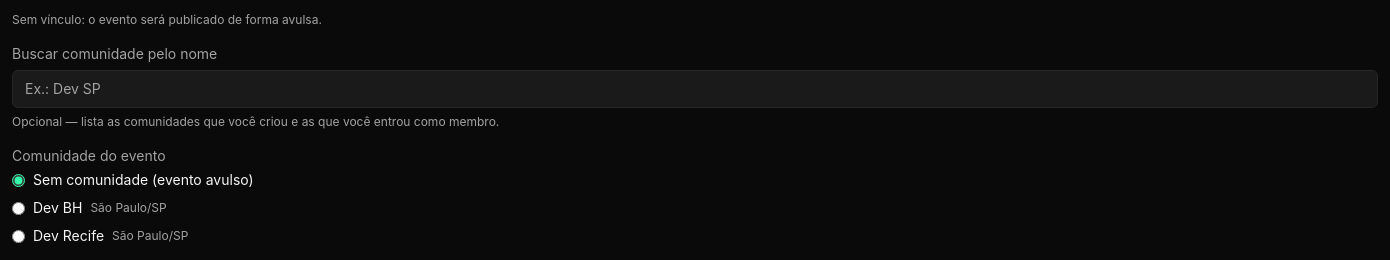
Test case: CommunityPicker › a busca filtra as comunidades de membro no cliente
Expected: the radio button labelled "Dev BH São Paulo/SP" is shown, 12,202 -> 25,214
Type "recife" into the field labelled "Buscar comunidade pelo nome".
click(695, 89); type("recife")  # box 12,70 -> 1378,108
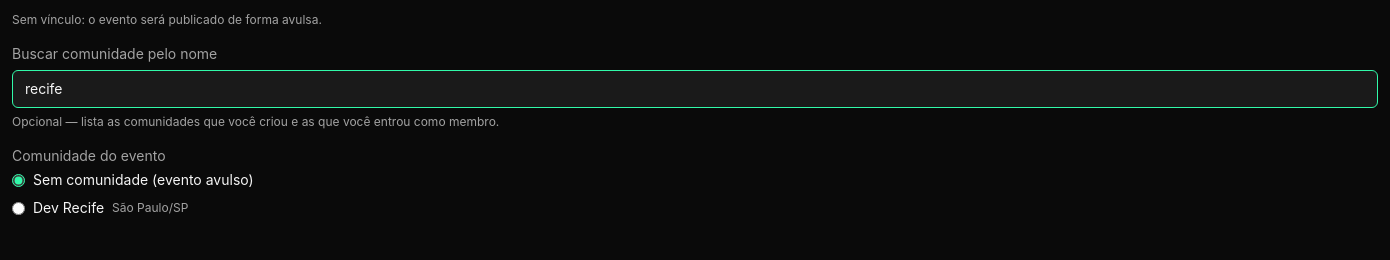
Expected: the radio button labelled "Dev Recife São Paulo/SP" is shown, 12,202 -> 25,214
Now the text "Dev BH" is gone
